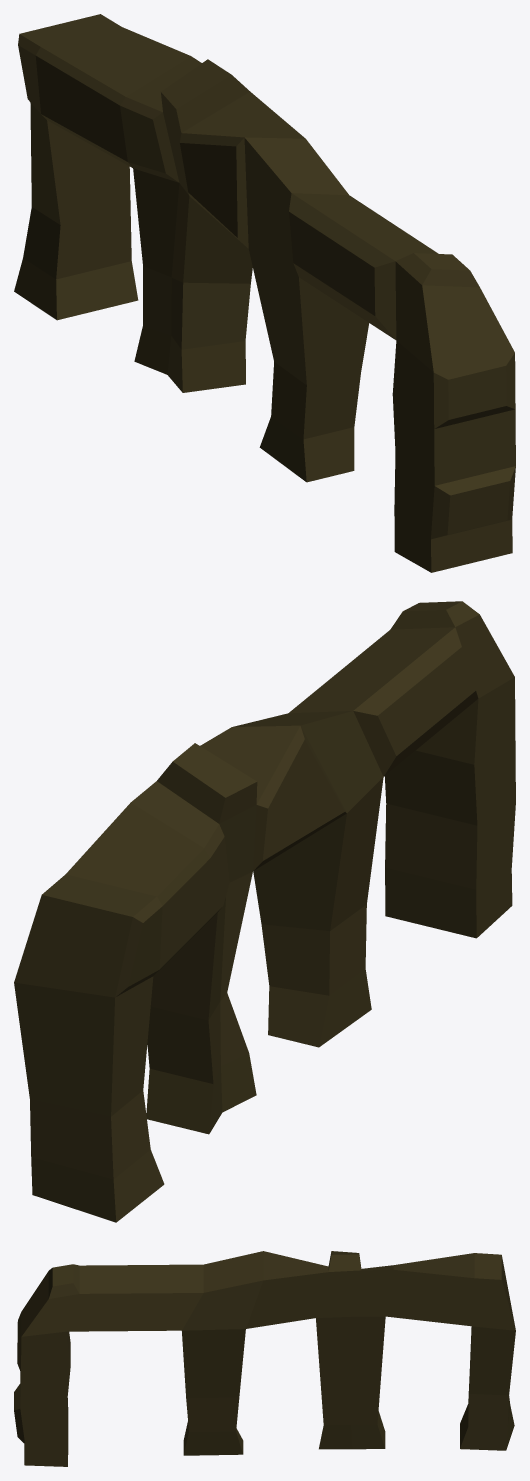
File: 3_portas.fbx
3 views of the same model, one above another, from view 1: azimuth 30°, elevation 25°; view 2: azimuth 150°, elevation 25°; view 3: azimuth 270°, elevation 25° (orthographic). The views are drawn at different scales.
Parts seen in each view (by area): view 1: 3 portas; view 2: 3 portas; view 3: 3 portas.
Part boxes in pixels (box(x1,y1,x2,y2)): 3 portas: box(14, 14, 515, 572); 3 portas: box(14, 601, 515, 1222); 3 portas: box(14, 1251, 515, 1466).
Bounding box in the file's own units: 544 × 1325 × 3007.
